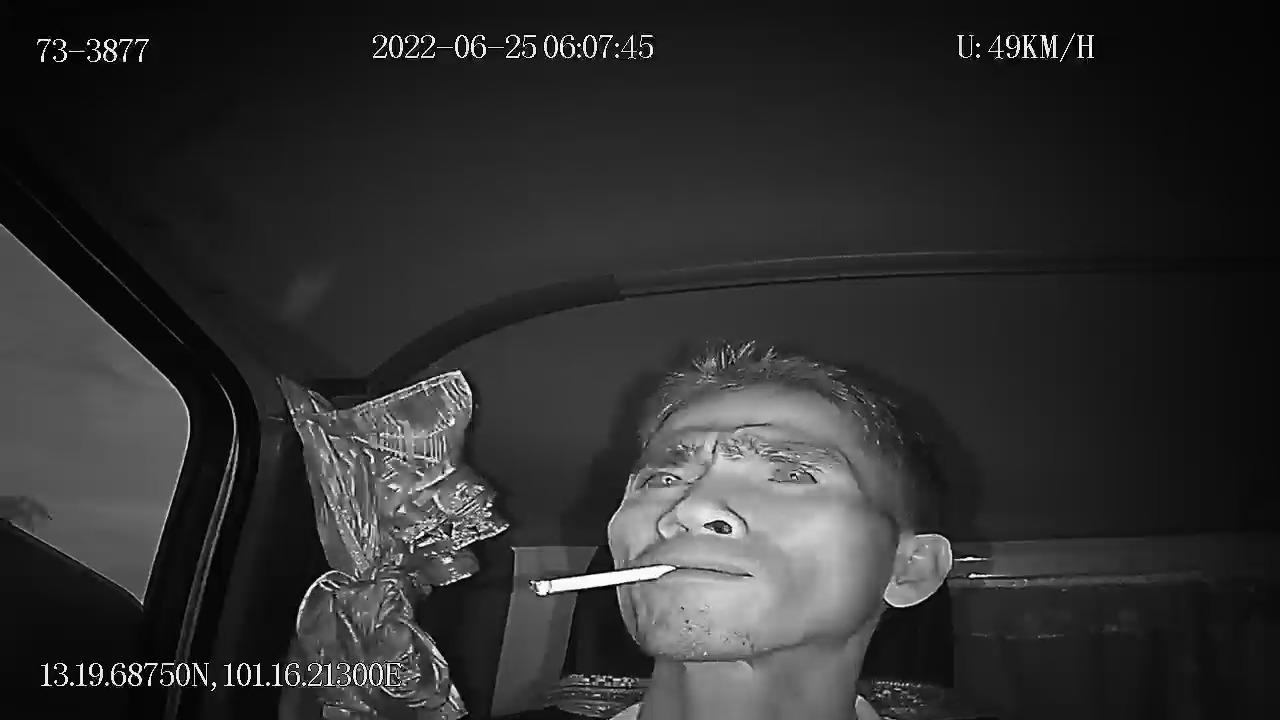Smoking: (503, 559, 692, 604)
